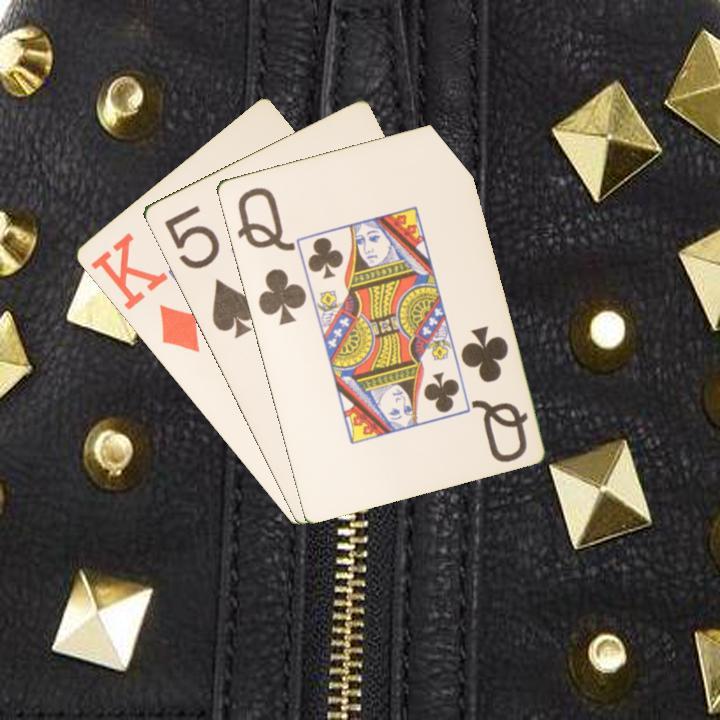5s: (160, 201, 258, 342)
Kd: (87, 229, 203, 356)
Qc: (232, 183, 309, 328), (456, 322, 531, 465)
